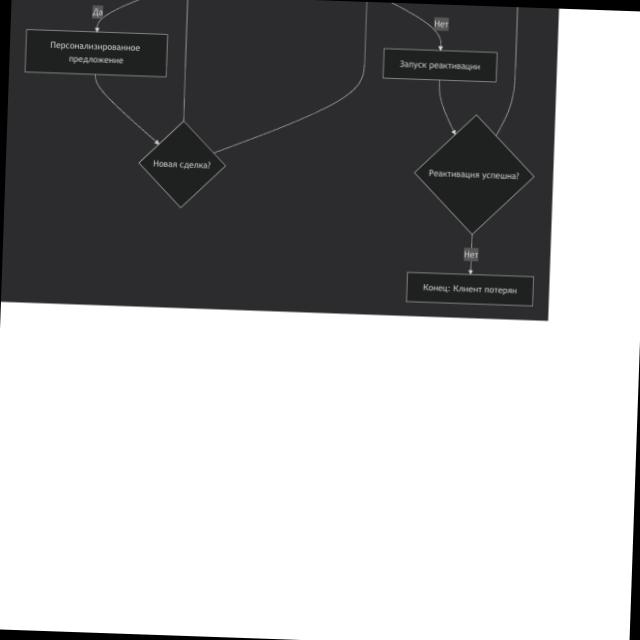arrow: (91, 76, 161, 147), (391, 3, 446, 51), (436, 80, 459, 136), (462, 232, 480, 276)
diamond: (413, 114, 535, 235), (138, 121, 226, 208)
text_region: (434, 15, 451, 31), (88, 5, 108, 18), (464, 248, 480, 261)
